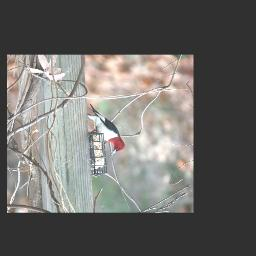Woodpecker: (83, 102, 129, 158)
